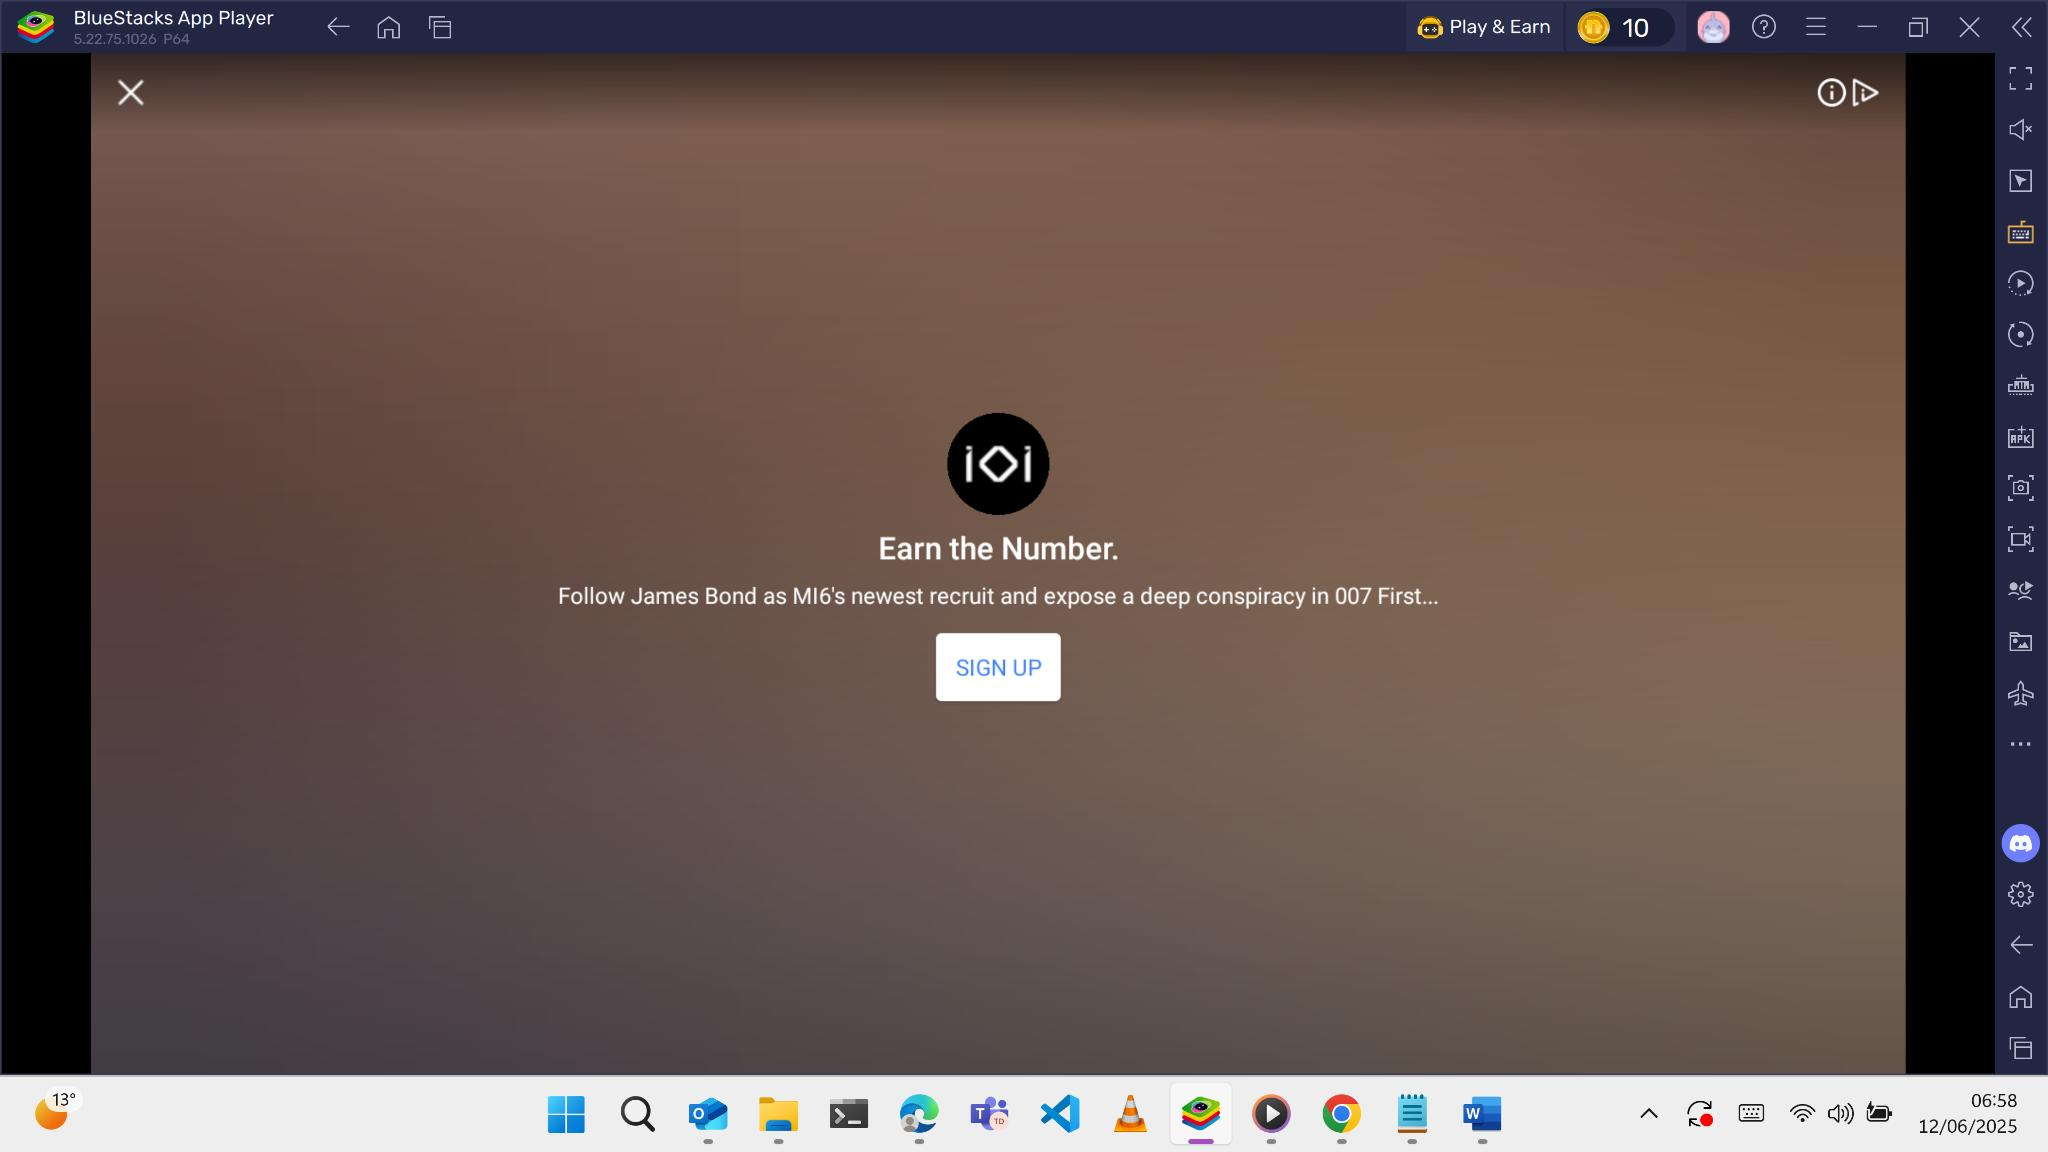close_ad: (117, 79, 146, 107)
